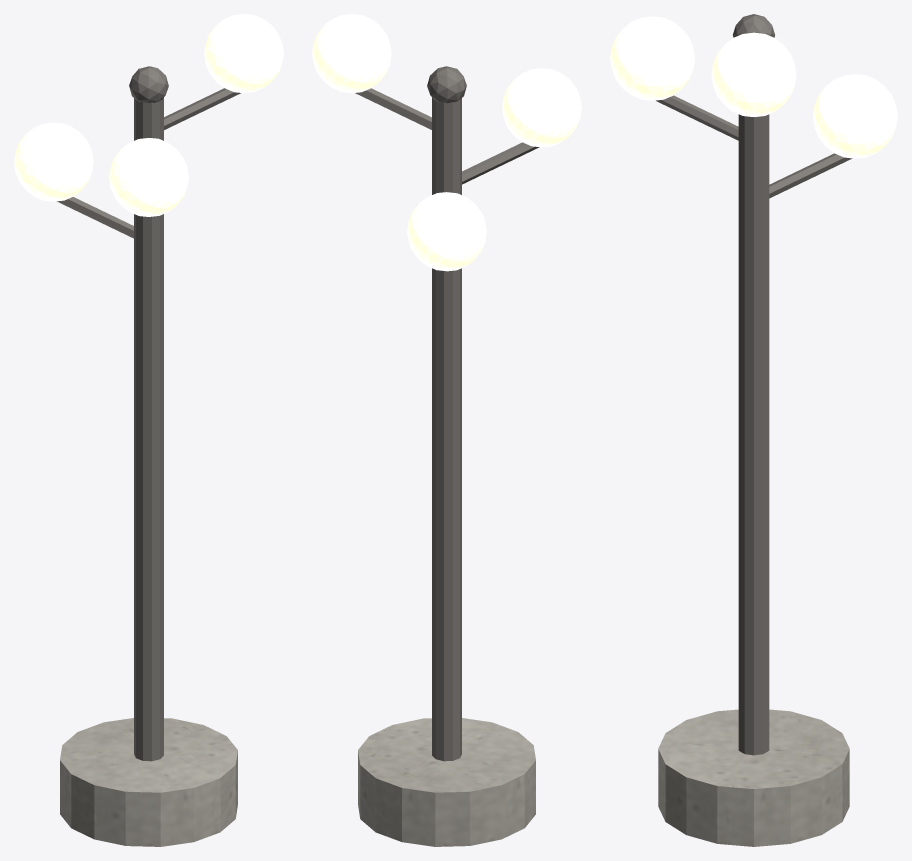
Rendered from lamp_post.glb.
3 views of the same model, side by side, from view 1: azimuth 30°, elevation 25°; view 2: azimuth 150°, elevation 25°; view 3: azimuth 270°, elevation 25° (orthographic). The views are drawn at different scales.
Visible parts, largest first — view 1: lamp_post_metal, lamp_post_concrete, lamp_post_lamp_glass; view 2: lamp_post_metal, lamp_post_concrete, lamp_post_lamp_glass; view 3: lamp_post_metal, lamp_post_concrete, lamp_post_lamp_glass.
Boxes of the visible parts, left/top/right/bottom form: lamp_post_metal: left=57, top=66, right=240, bottom=761; lamp_post_concrete: left=60, top=718, right=237, bottom=846; lamp_post_lamp_glass: left=14, top=14, right=283, bottom=216; lamp_post_metal: left=355, top=66, right=539, bottom=761; lamp_post_concrete: left=358, top=718, right=535, bottom=846; lamp_post_lamp_glass: left=312, top=14, right=581, bottom=271; lamp_post_metal: left=656, top=14, right=852, bottom=755; lamp_post_concrete: left=658, top=709, right=849, bottom=846; lamp_post_lamp_glass: left=610, top=16, right=897, bottom=158.
Bounding box in the file's own units: 0.49 × 1.7 × 0.5411.
3 materials, 1 textured.
